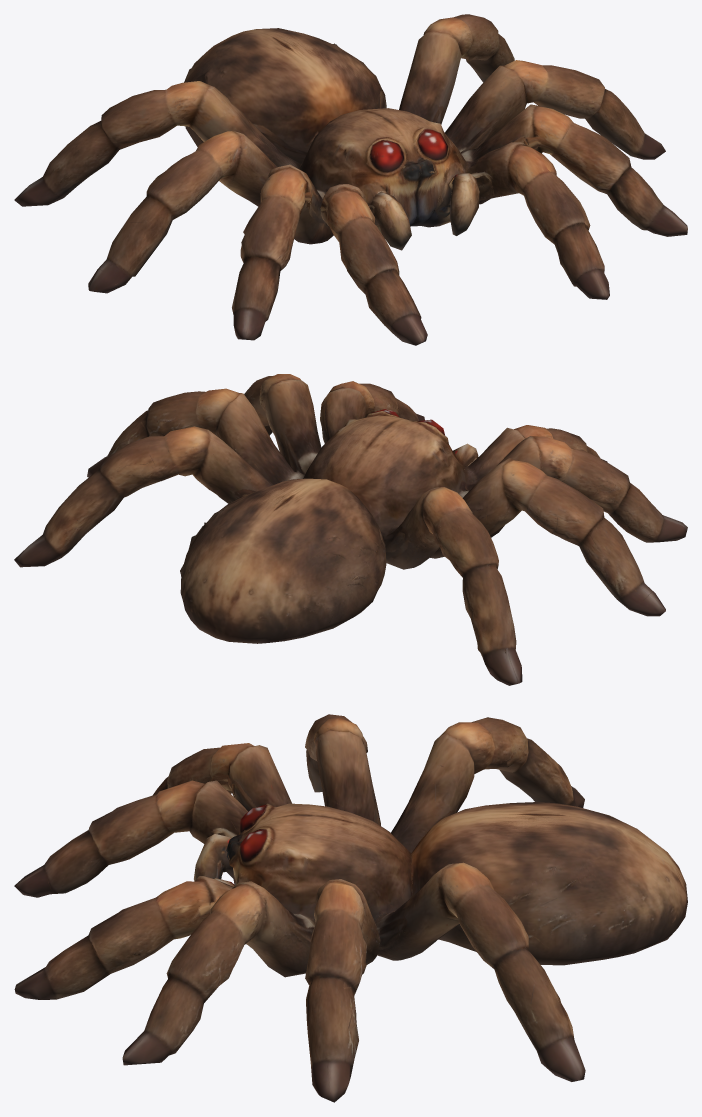
The model's file is spider.glb.
The picture shows the model from 3 angles, top to bottom: view 1: azimuth 30°, elevation 25°; view 2: azimuth 150°, elevation 25°; view 3: azimuth 270°, elevation 25°; orthographic projection. The views are drawn at different scales.
Visible parts, largest first — view 1: Mesh1.0; view 2: Mesh1.0; view 3: Mesh1.0.
Boxes of the visible parts, <box> form: Mesh1.0: <box>14,14,687,345</box>; Mesh1.0: <box>14,374,687,685</box>; Mesh1.0: <box>14,714,687,1102</box>.
Size of the model in its own units: 2.01 by 0.4303 by 1.78.
Materials: 1 (1 with a texture image).
